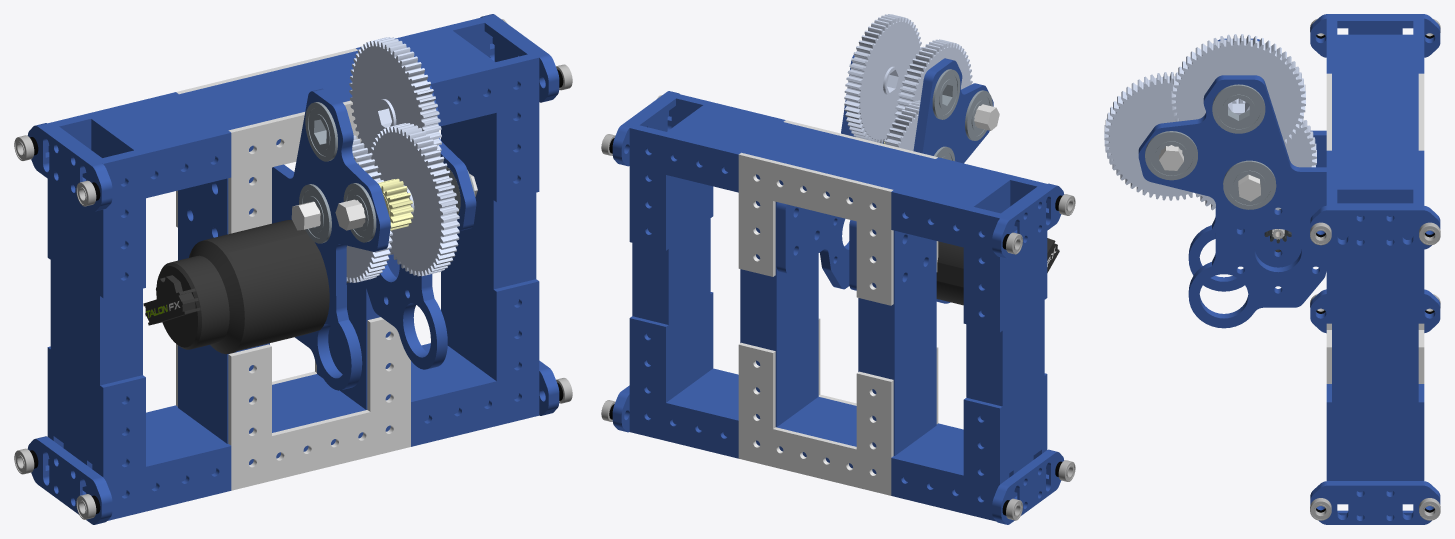
3 renders of one model, left to right at view 1: azimuth 30°, elevation 25°; view 2: azimuth 150°, elevation 25°; view 3: azimuth 270°, elevation 25°, orthographic. The views are drawn at different scales.
Visible parts, largest first — view 1: L-Bracket (×5), Part 2 (×4), Part 1 (×2), U-Bracket (×3), Falcon 500 (V1/2), 60t 20dp Aluminum 1/2" Hex Bore Gear (217-3574) (×3), Part 3 (×2), Bearing Plate (×4), .5" Hex ID 1.125" OD Flanged Bearing (217-2734) (×3), Part 5 (×2), 18t 20dp Steel 1/2" Hex Bore Gear (217-5460); view 2: L-Bracket (×5), Part 2 (×4), Part 1 (×2), U-Bracket (×4), Part 3 (×2), 60t 20dp Aluminum 1/2" Hex Bore Gear (217-3574) (×3), Bearing Plate (×4), Falcon 500 (V1/2), .5" Hex ID 1.125" OD Flanged Bearing (217-2734) (×2), Part 5; view 3: Part 2 (×3), Part 1 (×2), 60t 20dp Aluminum 1/2" Hex Bore Gear (217-3574) (×3), Bearing Plate (×4), .5" Hex ID 1.125" OD Flanged Bearing (217-2734) (×3), L-Bracket (×4), U-Bracket (×3), Part 5 (×2).
Boxes of the visible parts, x1,y1,x2,y2 form: L-Bracket (×5): (47,55,539,520); Part 2 (×4): (94,29,492,488); Part 1 (×2): (50,19,536,495); U-Bracket (×3): (176,48,410,490); Falcon 500 (V1/2): (143,220,329,354); 60t 20dp Aluminum 1/2" Hex Bore Gear (217-3574) (×3): (346,37,459,282); Part 3 (×2): (178,177,399,443); Bearing Plate (×4): (27,14,559,524); .5" Hex ID 1.125" OD Flanged Bearing (217-2734) (×3): (299,102,376,243); Part 5 (×2): (291,174,477,230); 18t 20dp Steel 1/2" Hex Bore Gear (217-5460): (378,178,413,230); L-Bracket (×5): (629,126,1047,521); Part 2 (×4): (669,55,1007,494); Part 1 (×2): (632,95,1044,500); U-Bracket (×4): (738,120,938,495); Part 3 (×2): (740,201,936,455); 60t 20dp Aluminum 1/2" Hex Bore Gear (217-3574) (×3): (844,14,972,150); Bearing Plate (×4): (612,91,1064,524); Falcon 500 (V1/2): (936,238,1059,305); .5" Hex ID 1.125" OD Flanged Bearing (217-2734) (×2): (932,69,992,140); Part 5: (974,104,999,130); Part 2 (×3): (1138,37,1418,328); Part 1 (×2): (1332,18,1418,516); 60t 20dp Aluminum 1/2" Hex Bore Gear (217-3574) (×3): (1104,34,1316,210); Bearing Plate (×4): (1310,14,1440,524); .5" Hex ID 1.125" OD Flanged Bearing (217-2734) (×3): (1145,84,1276,209); L-Bracket (×4): (1326,150,1424,480); U-Bracket (×3): (1326,73,1424,383); Part 5 (×2): (1159,145,1260,201).
Bounding box in the file's own units: 0.2877 × 0.2582 × 0.1969.
